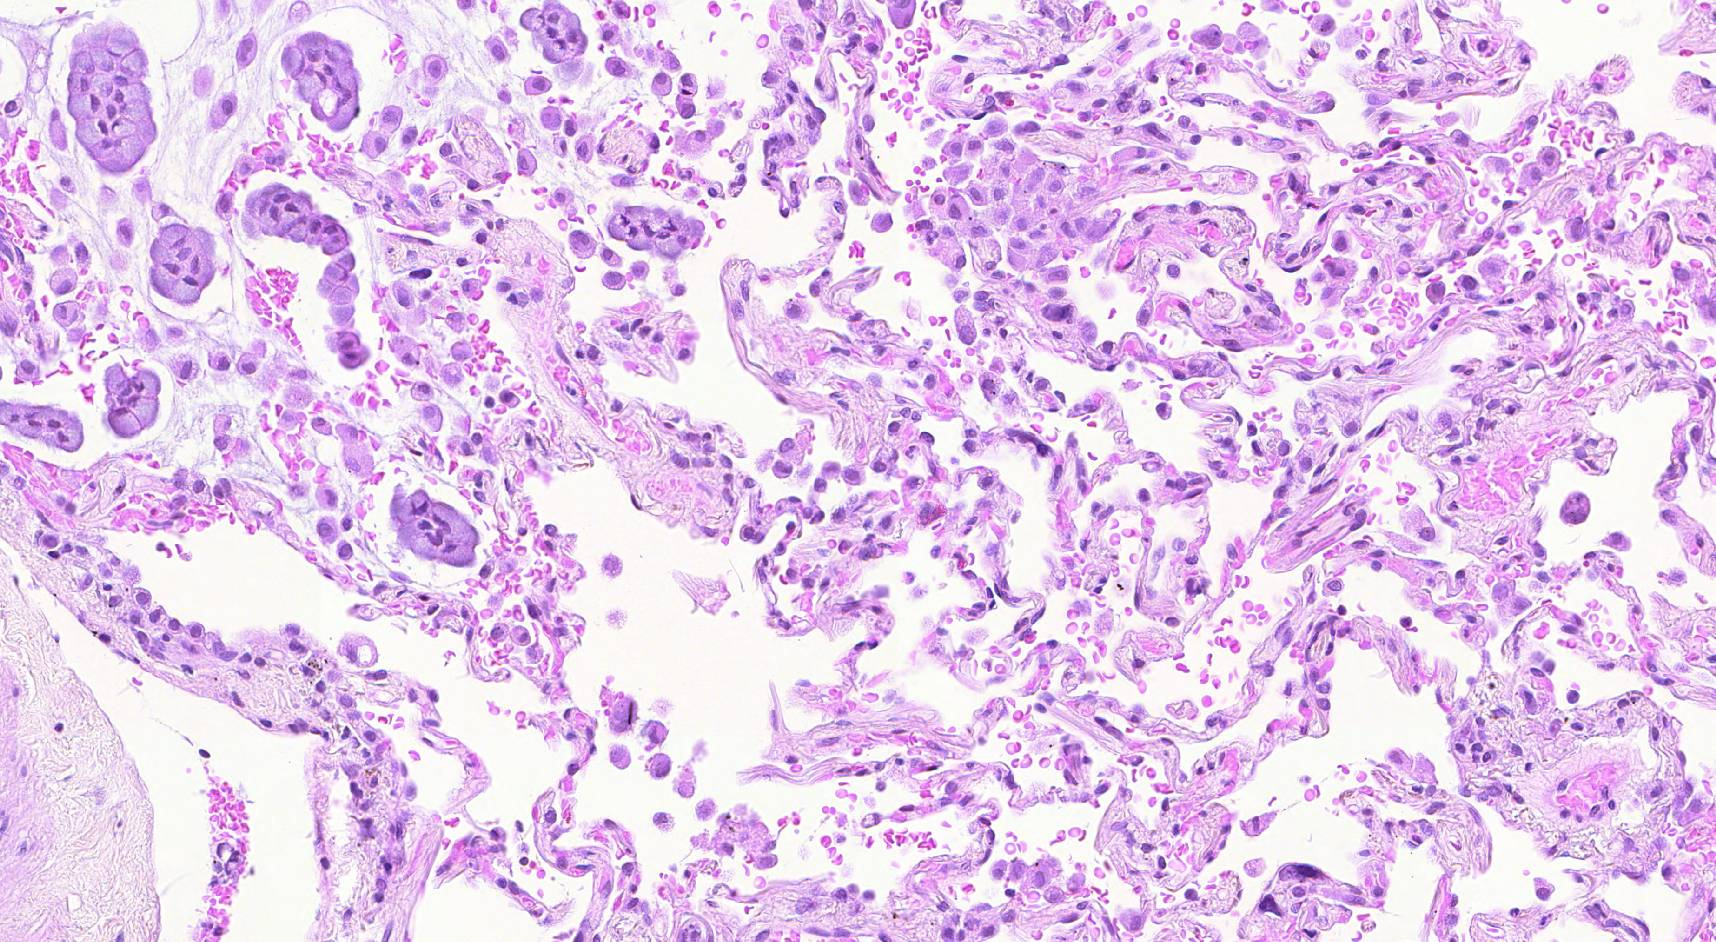stas: (241, 181, 371, 370), (66, 21, 158, 176), (279, 29, 363, 131), (387, 484, 477, 569), (150, 224, 219, 304), (608, 203, 707, 259), (103, 361, 163, 437), (1, 400, 84, 455), (520, 1, 588, 65)
